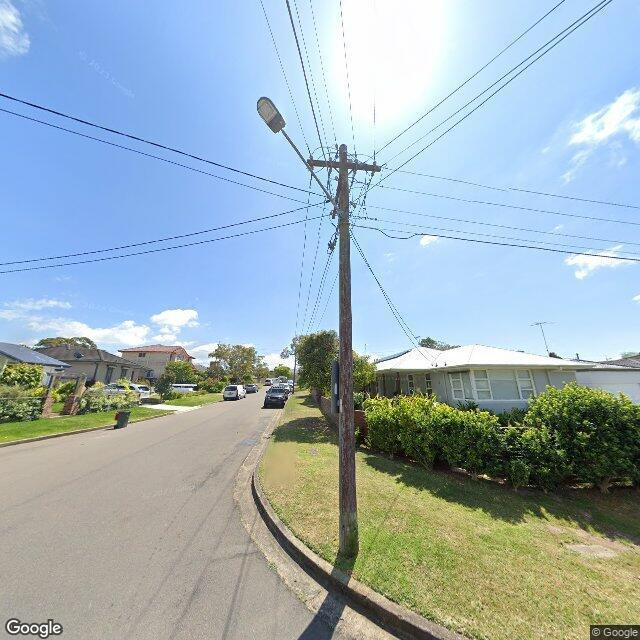crossarm: (306, 159, 382, 173), (290, 354, 296, 355)
streetlight: (256, 95, 347, 216)
timber-pole: (338, 144, 359, 558), (292, 351, 297, 394)
